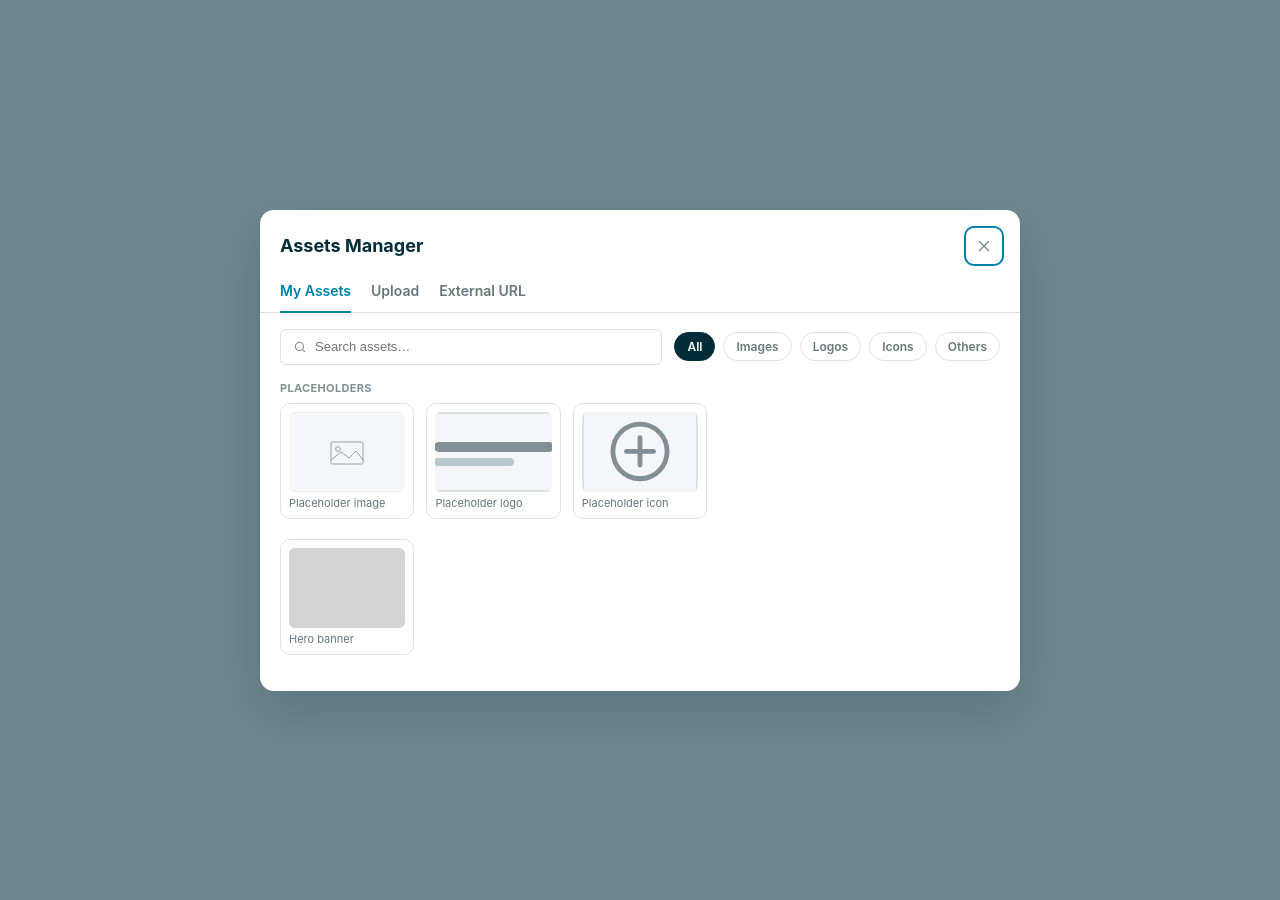
Test: AssetManagerDialog — browse › copies the asset URL to the clipboard
Click the button "Hero banner". click: (347, 596)
box: [280,538,414,654]
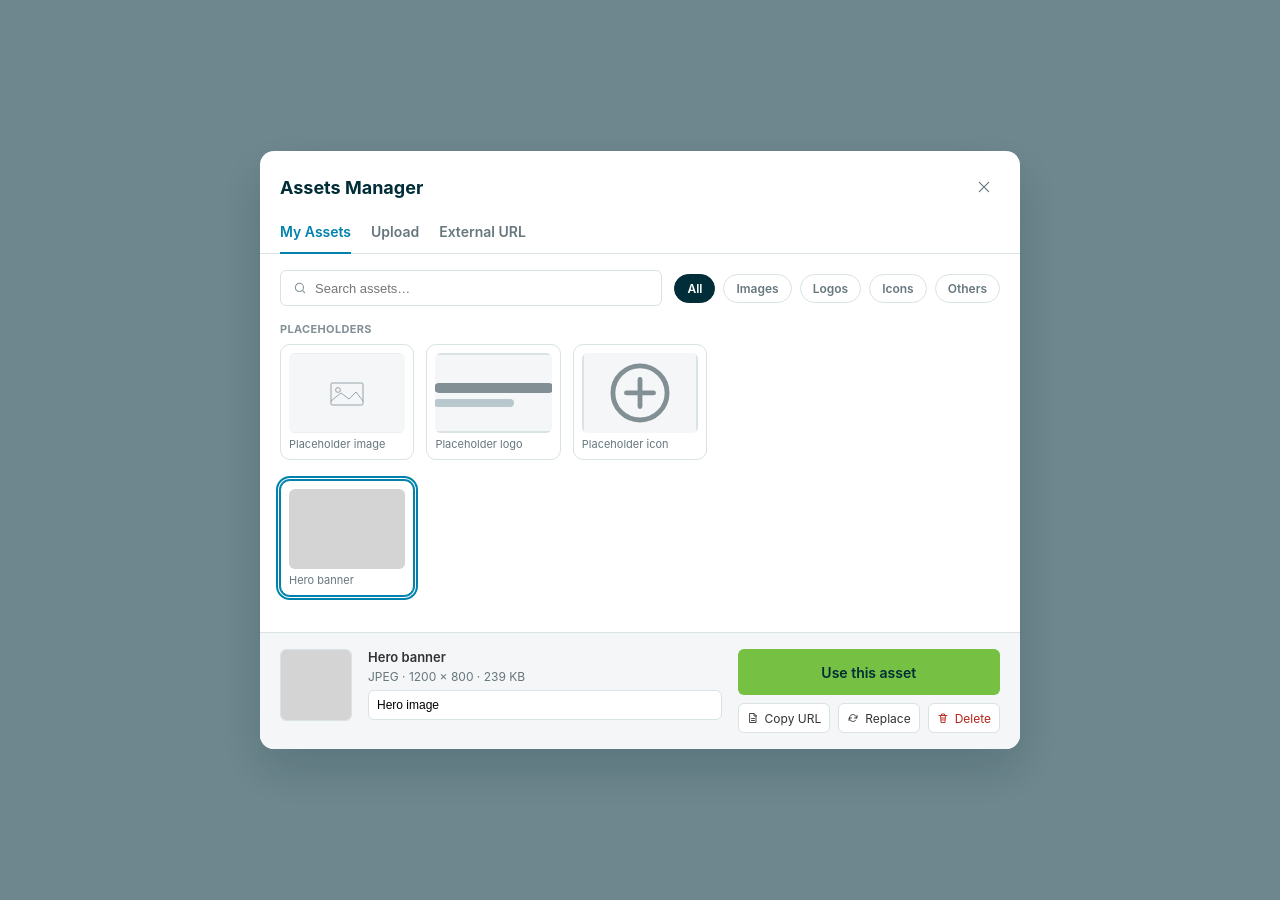
Click the button "Copy URL". click: (784, 718)
box: [738,703,830,733]
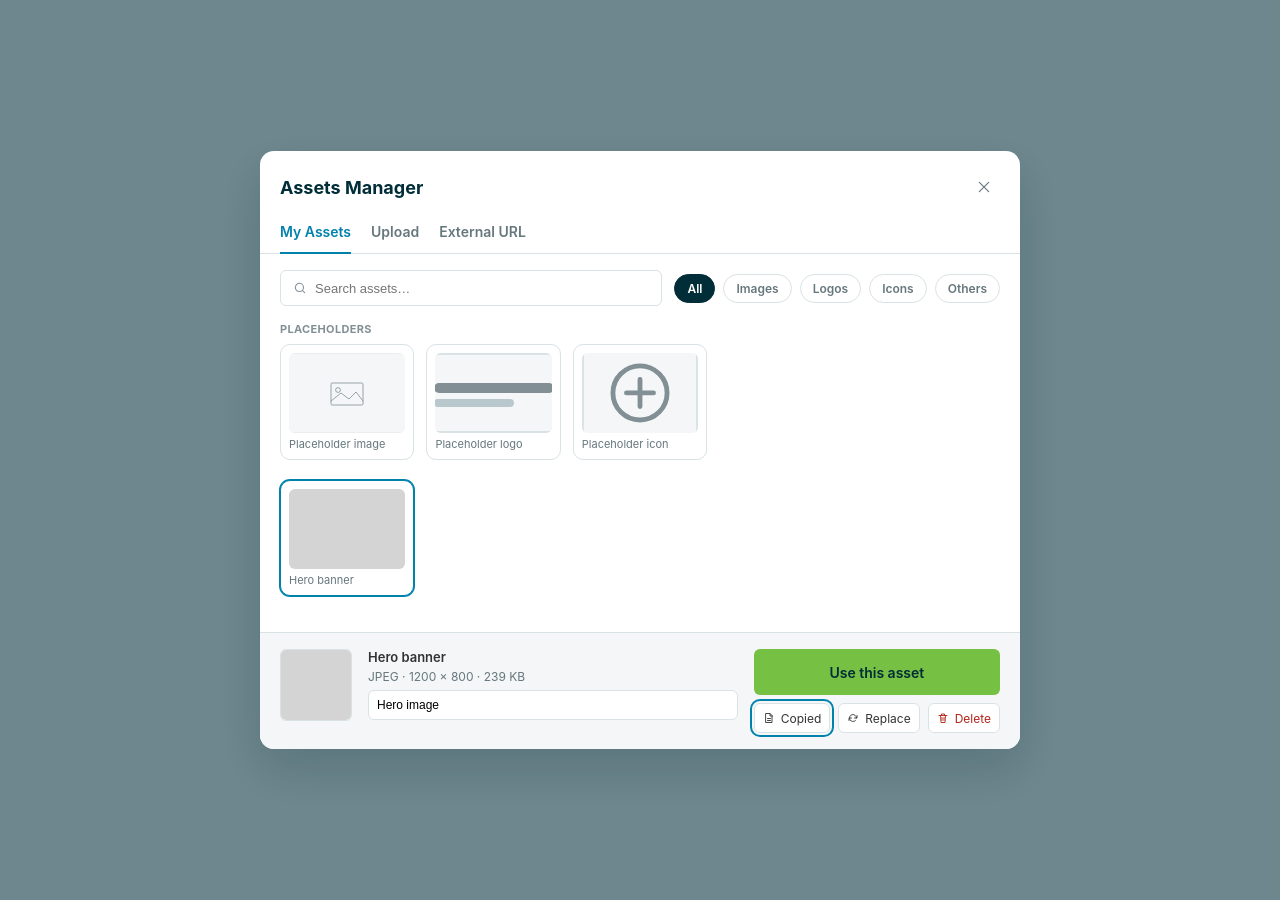
Now the button "Copied" is shown, box [754,703,830,733]
